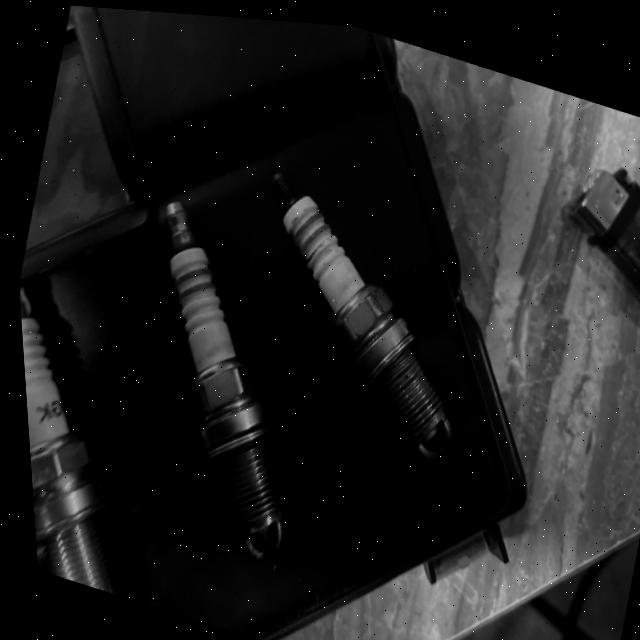spark-plug: (258, 148, 457, 465), (149, 186, 290, 566)
